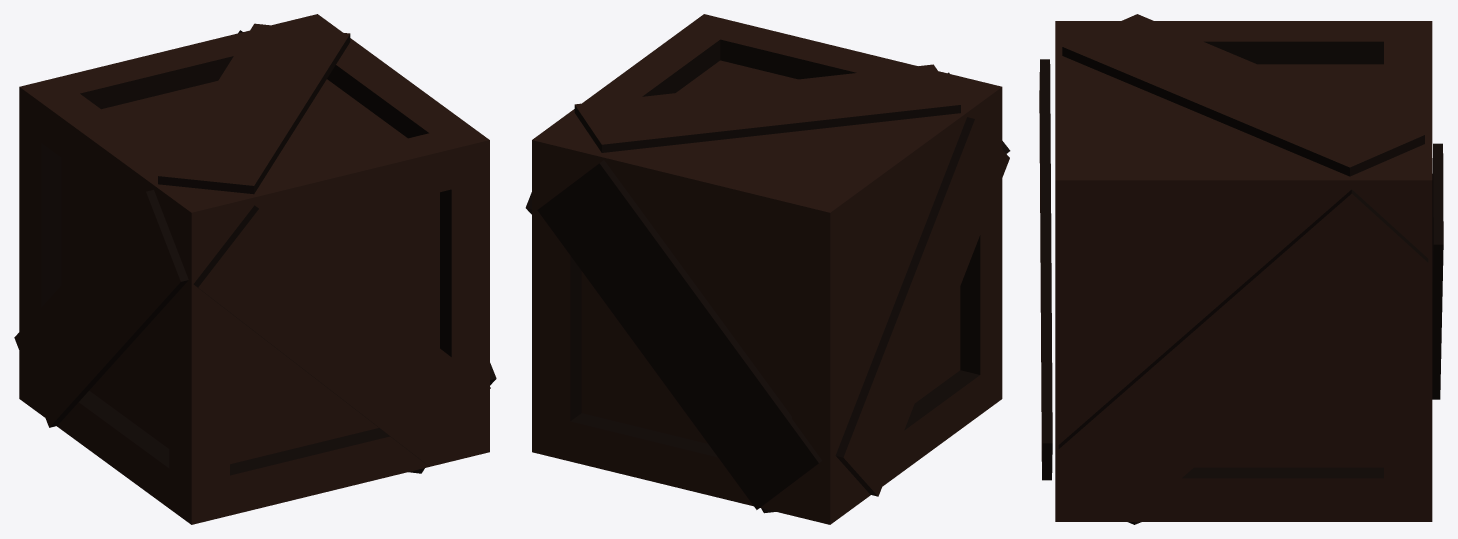
The model's file is WoodBox03.fbx.
The picture shows the model from 3 angles, left to right: view 1: azimuth 30°, elevation 25°; view 2: azimuth 150°, elevation 25°; view 3: azimuth 270°, elevation 25°; orthographic projection. The views are drawn at different scales.
Parts seen in each view (by area): view 1: WoodBox03; view 2: WoodBox03; view 3: WoodBox03.
Part boxes in pixels (left/top/right/bottom): WoodBox03: left=14, top=14, right=496, bottom=524; WoodBox03: left=525, top=14, right=1010, bottom=524; WoodBox03: left=1039, top=14, right=1443, bottom=524.
Size of the model in its own units: 35.99 by 35.74 by 36.45.
